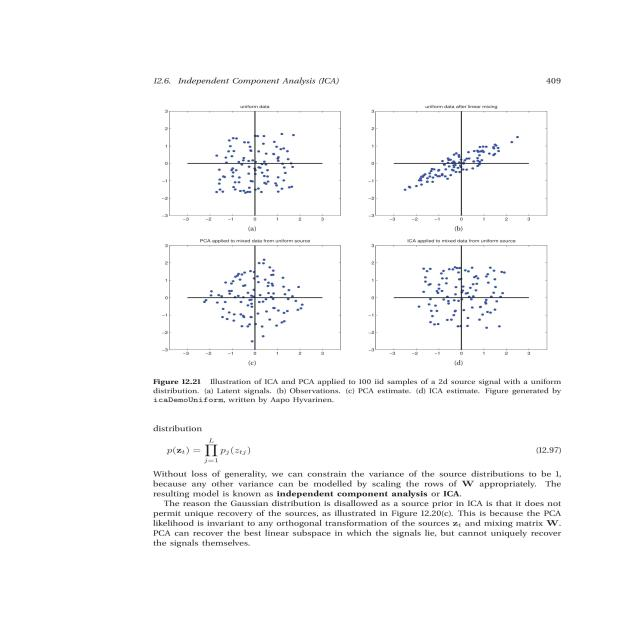diagram: (137, 69, 601, 422)
